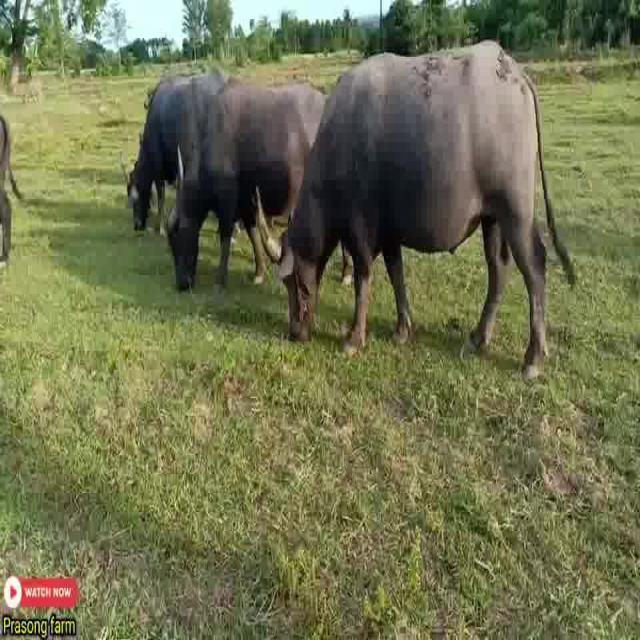buffalo: (280, 33, 564, 364), (131, 68, 327, 299)
